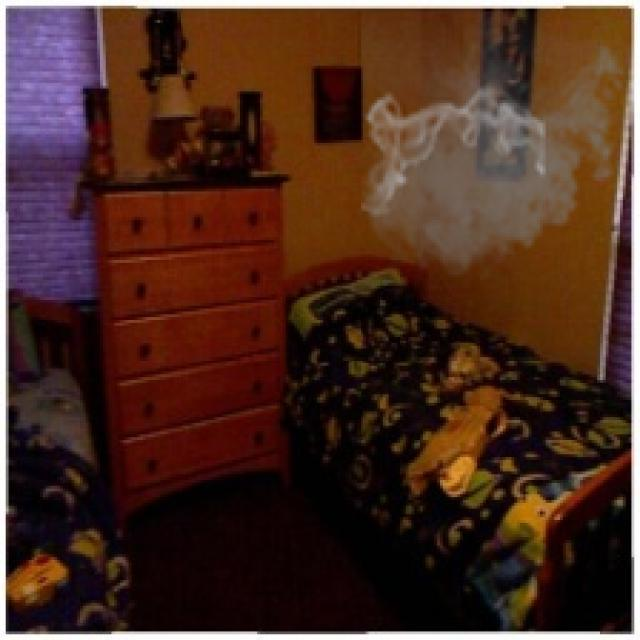Smoke: (357, 12, 632, 288)
